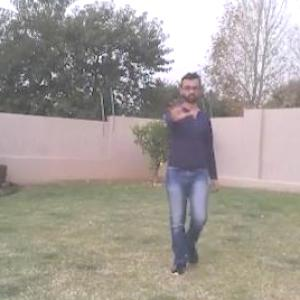follow_hand: (164, 92, 192, 122)
